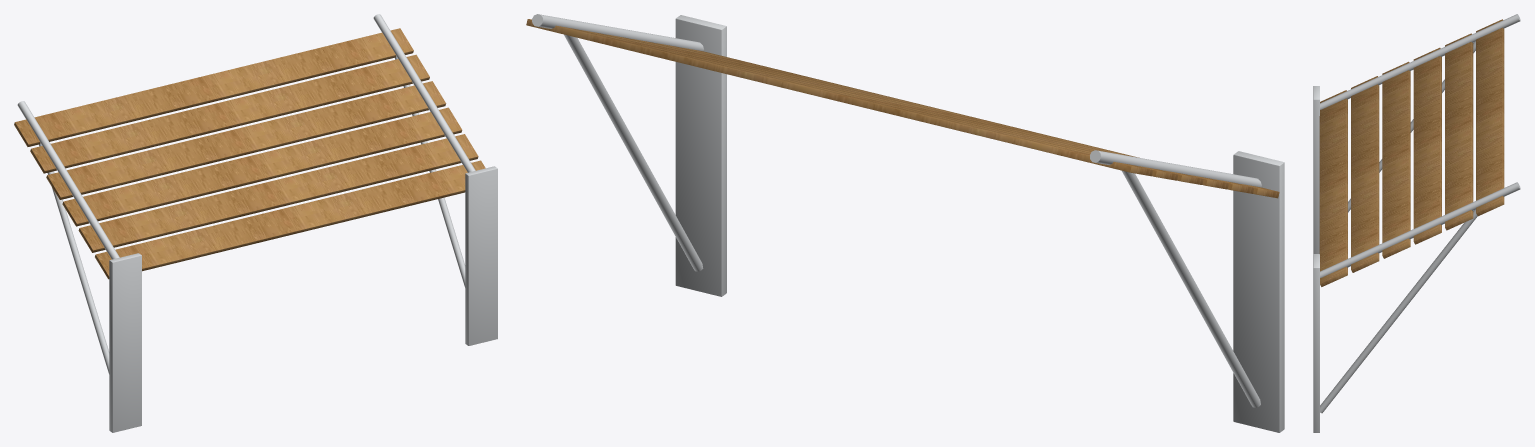
The model's file is SER-AND-003_lod1.glb.
3 renders of one model, left to right at view 1: azimuth 30°, elevation 25°; view 2: azimuth 150°, elevation 25°; view 3: azimuth 270°, elevation 25°, orthographic. The views are drawn at different scales.
Visible parts, largest first — view 1: SER-AND-003_tabua1, SER-AND-003_tabua2, SER-AND-003_tabua4, SER-AND-003_tabua3, SER-AND-003_tabua5, SER-AND-003_tabua0, SER-AND-003_fix0, SER-AND-003_fix1, SER-AND-003_mao1, SER-AND-003_mao0, SER-AND-003_esc0, SER-AND-003_esc1; view 2: SER-AND-003_fix0, SER-AND-003_fix1, SER-AND-003_tabua5, SER-AND-003_esc0, SER-AND-003_esc1, SER-AND-003_mao0, SER-AND-003_mao1, SER-AND-003_tabua4, SER-AND-003_tabua3, SER-AND-003_tabua2, SER-AND-003_tabua0, SER-AND-003_tabua1; view 3: SER-AND-003_tabua2, SER-AND-003_tabua4, SER-AND-003_tabua3, SER-AND-003_tabua1, SER-AND-003_tabua5, SER-AND-003_tabua0, SER-AND-003_esc1, SER-AND-003_mao1, SER-AND-003_mao0, SER-AND-003_fix1, SER-AND-003_fix0.
Part boxes in pixels (box(x1,y1,x2,y2)): SER-AND-003_tabua1: box(78, 134, 478, 252); SER-AND-003_tabua2: box(62, 107, 462, 226); SER-AND-003_tabua4: box(30, 54, 429, 173); SER-AND-003_tabua3: box(46, 81, 446, 199); SER-AND-003_tabua5: box(14, 28, 413, 146); SER-AND-003_tabua0: box(95, 160, 485, 279); SER-AND-003_fix0: box(109, 253, 141, 432); SER-AND-003_fix1: box(465, 166, 497, 345); SER-AND-003_mao1: box(373, 14, 475, 172); SER-AND-003_mao0: box(17, 101, 119, 259); SER-AND-003_esc0: box(39, 143, 109, 374); SER-AND-003_esc1: box(395, 56, 465, 287); SER-AND-003_fix0: box(1233, 151, 1284, 432); SER-AND-003_fix1: box(675, 15, 726, 296); SER-AND-003_tabua5: box(526, 19, 1152, 176); SER-AND-003_esc0: box(1122, 170, 1260, 407); SER-AND-003_esc1: box(564, 34, 703, 271); SER-AND-003_mao0: box(1090, 150, 1261, 187); SER-AND-003_mao1: box(532, 14, 703, 51); SER-AND-003_tabua4: box(581, 30, 1178, 180); SER-AND-003_tabua3: box(607, 34, 1203, 184); SER-AND-003_tabua2: box(632, 39, 1228, 189); SER-AND-003_tabua0: box(682, 47, 1279, 198); SER-AND-003_tabua1: box(657, 43, 1253, 193); SER-AND-003_tabua2: box(1382, 61, 1410, 258); SER-AND-003_tabua4: box(1445, 33, 1473, 230); SER-AND-003_tabua3: box(1413, 47, 1441, 244); SER-AND-003_tabua1: box(1351, 76, 1379, 272); SER-AND-003_tabua5: box(1476, 19, 1504, 216); SER-AND-003_tabua0: box(1319, 90, 1347, 286); SER-AND-003_esc1: box(1320, 209, 1477, 413); SER-AND-003_mao1: box(1320, 182, 1520, 277); SER-AND-003_mao0: box(1320, 14, 1520, 109); SER-AND-003_fix1: box(1313, 254, 1319, 432); SER-AND-003_fix0: box(1313, 86, 1319, 253).
Bounding box in the file's own units: 2.6 × 1.62 × 1.25.
2 materials, 1 textured.
